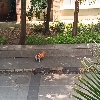fire: (36, 50, 45, 58)
